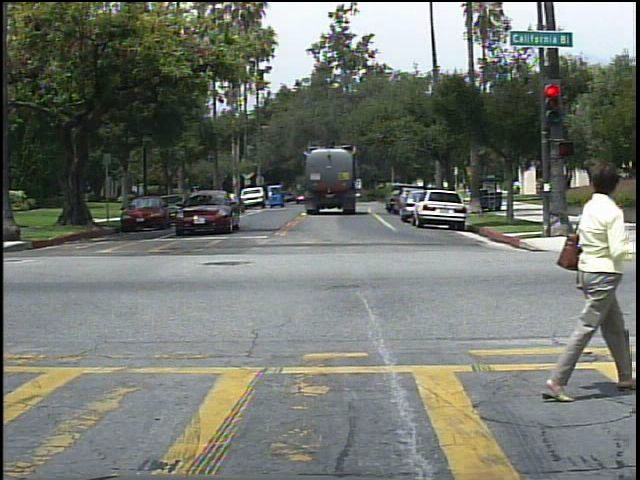person: (526, 135, 637, 408), (513, 180, 526, 199)
